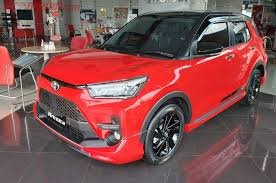mobil: (32, 10, 270, 157)
